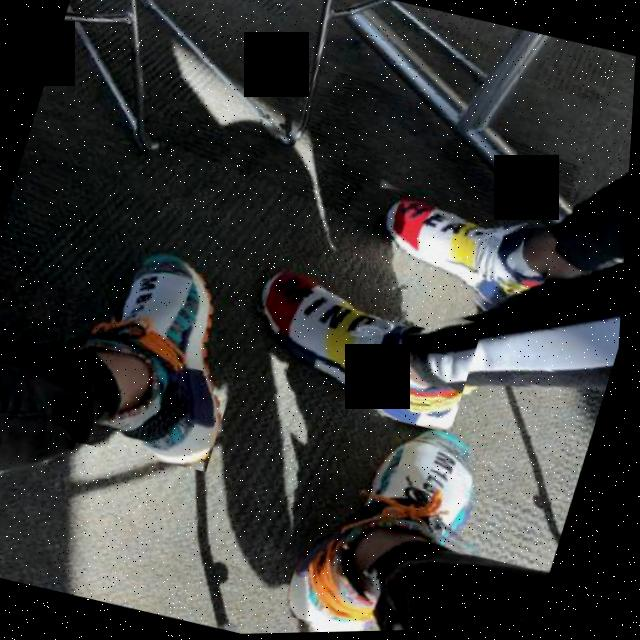shoe: (46, 235, 271, 476), (288, 407, 499, 634), (237, 264, 492, 440), (361, 189, 565, 326)
